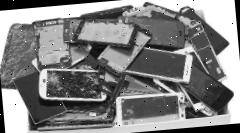electronic: (0, 0, 236, 133), (112, 34, 204, 94), (36, 60, 118, 122), (115, 86, 189, 131), (32, 13, 77, 76)
